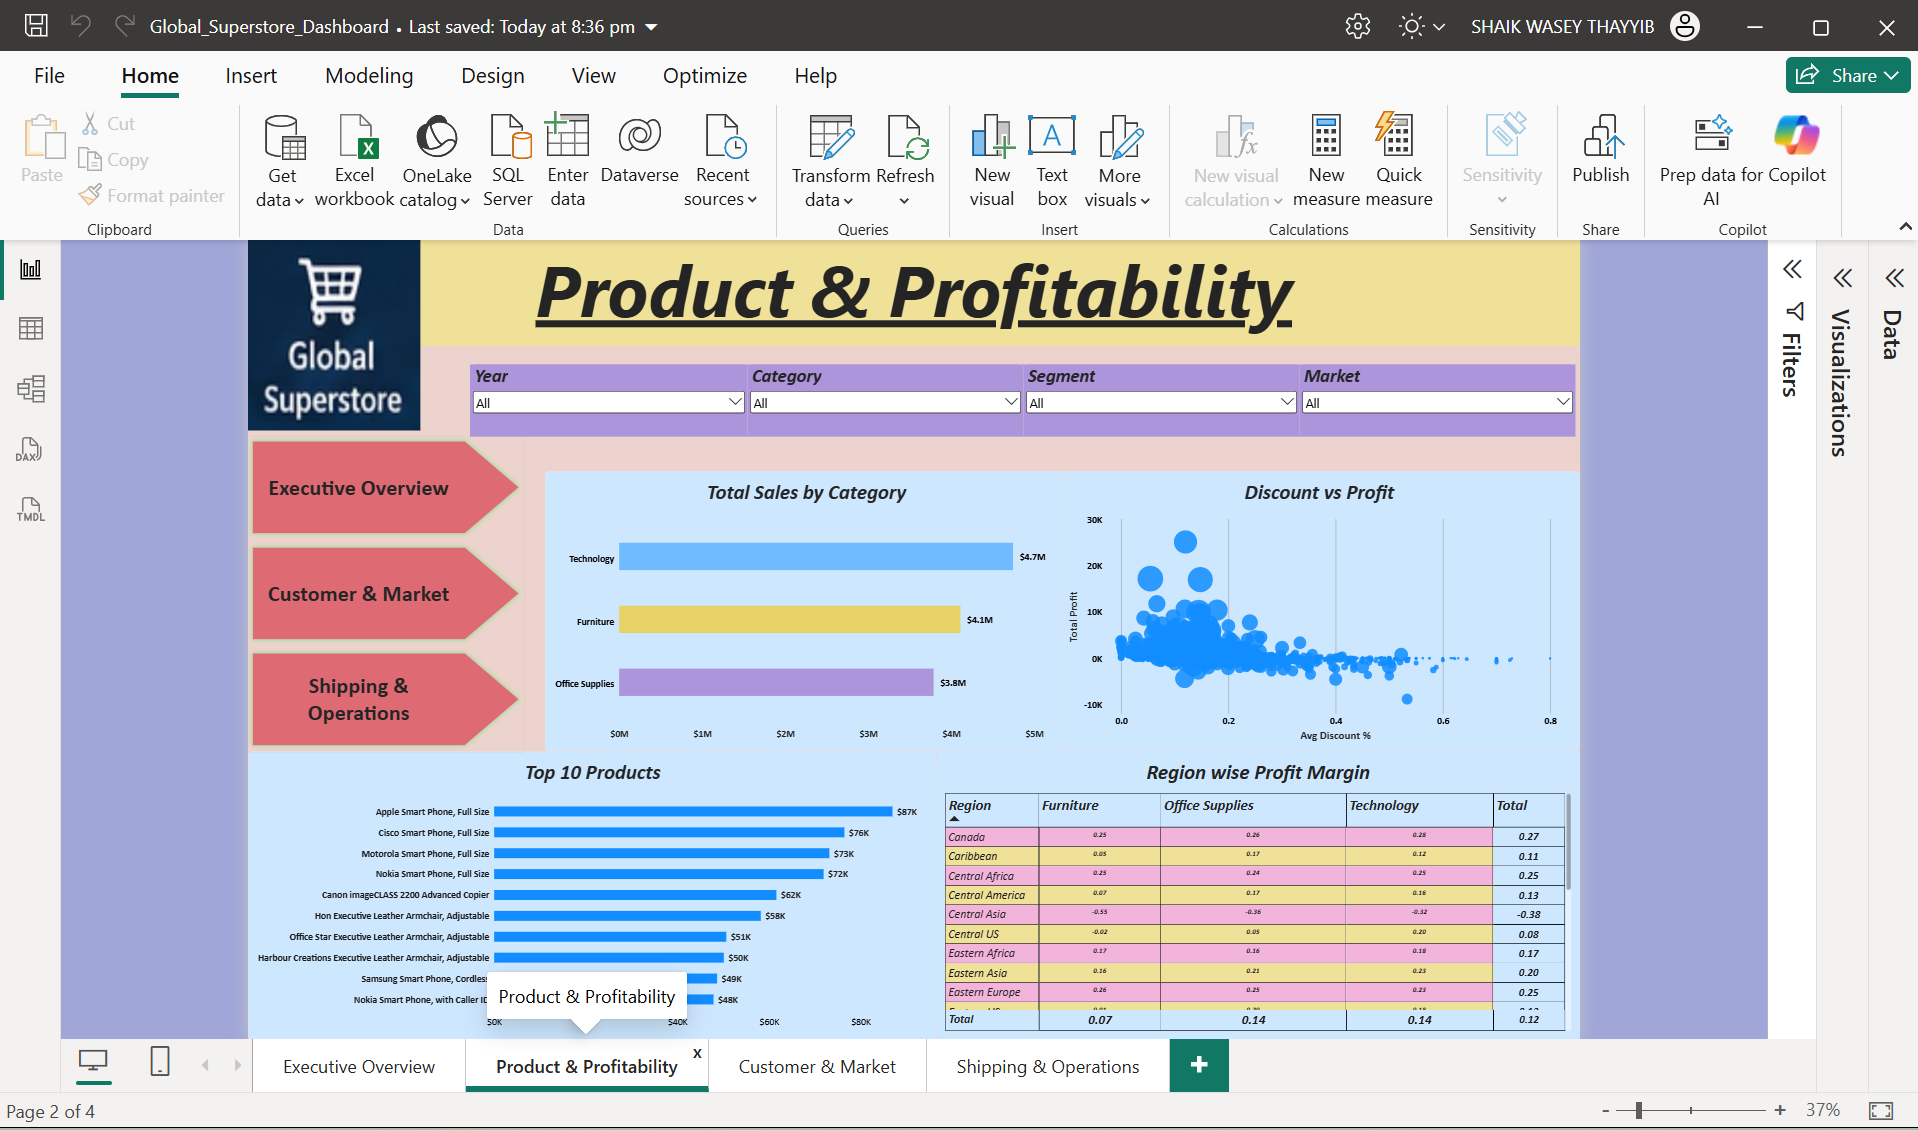

What the dashboard file says about the page in this screenshot:
{"tool":"powerbi","page":{"name":"Product & Profitability","canvas":[2400,1440],"ordinal":1},"visuals":[{"type":"clusteredBarChart","fields":{"Category":["Orders.Category","Orders.Sub-Category"],"Y":["_Measures.Total Sales"]},"box":[535.3,416.3,940.8,505.5],"z":0},{"type":"scatterChart","title":" Discount vs Profit","fields":{"Category":["Orders.Product Name"],"Size":["_Measures.Total Sales"],"X":["_Measures.Avg Discount %"],"Y":["_Measures.Total Profit"]},"box":[1459.9,416.3,940.8,505.5],"z":1000},{"type":"clusteredBarChart","title":"Top 10 Products","fields":{"Category":["Orders.Product Name"],"Y":["_Measures.Total Sales"]},"box":[0,921.9,1240.9,519.1],"z":2000},{"type":"pivotTable","title":"Region wise Profit Margin ","fields":{"Columns":["Orders.Category"],"Rows":["Orders.Region"],"Values":["_Measures.Profit Margin %"]},"box":[1240.9,921.9,1159.8,519.1],"z":3000},{"type":"shape","box":[0,0,2562.9,190.6],"z":4000},{"type":"textbox","box":[129.8,0,2339.8,190.6],"z":5000},{"type":"slicer","fields":{"Values":["Date.Year"]},"box":[400.1,224.4,500.1,129.8],"z":7000},{"type":"pageNavigator","box":[0,354.1,497.4,567.7],"z":10000},{"type":"image","box":[0,0,310.9,343.3],"z":11000},{"type":"slicer","fields":{"Values":["Orders.Category"]},"box":[900.2,224.4,497.4,129.8],"z":11001},{"type":"slicer","fields":{"Values":["Orders.Segment"]},"box":[1397.7,224.4,497.4,129.8],"z":11002},{"type":"slicer","fields":{"Values":["Orders.Market"]},"box":[1895.1,224.4,497.4,129.8],"z":11003}]}

Visuals, with their boxes on the page's 2400x1440 design canvas (x1, y1, x2, y2). These are canvas units, not pixel positions in the 1918x1131 screenshot, which may show the page scaled, cropped or inside an application window:
clusteredBarChart - Orders.Category x Orders.Sub-Category: bbox(535, 416, 1476, 922)
" Discount vs Profit" scatterChart: bbox(1460, 416, 2401, 922)
"Top 10 Products" clusteredBarChart: bbox(0, 922, 1241, 1441)
"Region wise Profit Margin " pivotTable: bbox(1241, 922, 2401, 1441)
shape: bbox(0, 0, 2563, 191)
textbox: bbox(130, 0, 2470, 191)
slicer - Date.Year: bbox(400, 224, 900, 354)
pageNavigator: bbox(0, 354, 497, 922)
image: bbox(0, 0, 311, 343)
slicer - Orders.Category: bbox(900, 224, 1398, 354)
slicer - Orders.Segment: bbox(1398, 224, 1895, 354)
slicer - Orders.Market: bbox(1895, 224, 2392, 354)
